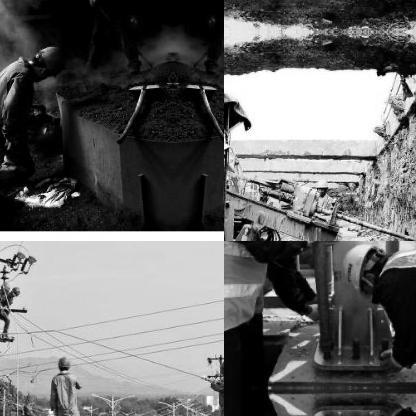Helmet: (342, 241, 387, 295), (26, 44, 66, 82), (56, 352, 73, 372), (311, 176, 329, 194), (0, 279, 9, 298), (9, 283, 21, 297), (218, 357, 223, 377)
